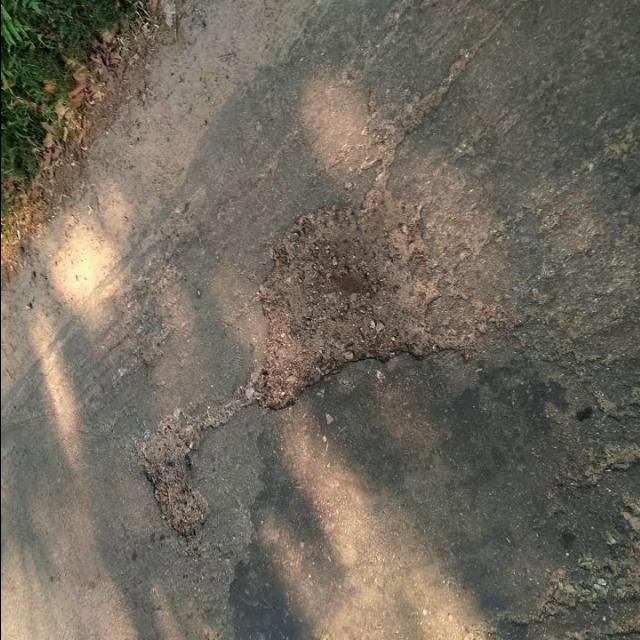pothole: (248, 172, 480, 425), (135, 394, 221, 546)
